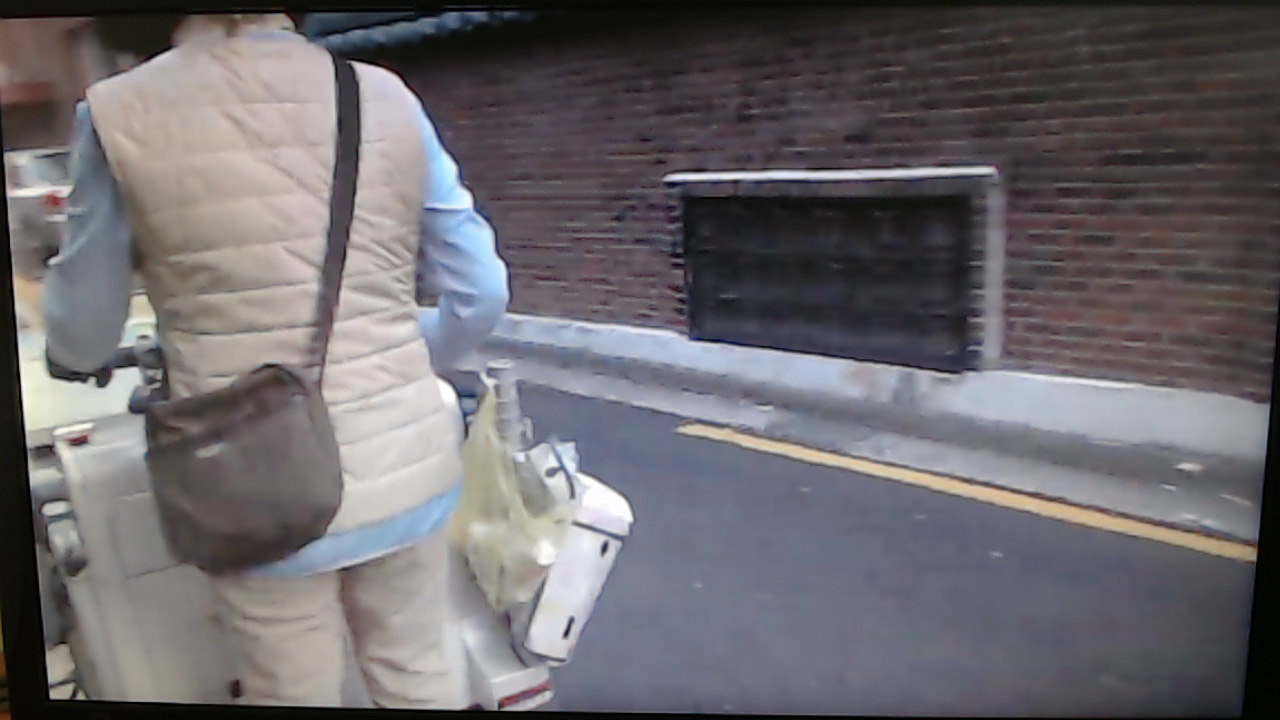Yakurut: (41, 17, 528, 716)
